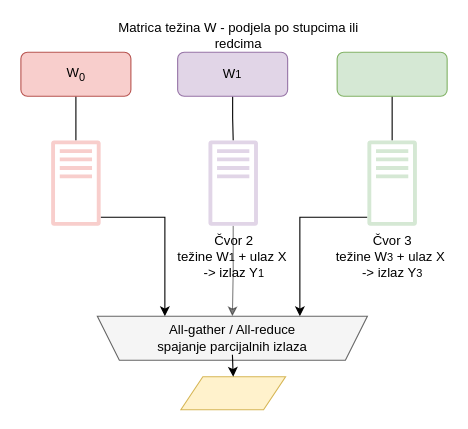
Some shapes in this 468 by 429 pixel diagram are drawn without their labels. Here are the shapes that lost their labels. From the top down, the box of each, then its label:
(336, 51, 447, 96): W 2
(50, 139, 101, 226): Čvor 1 težine W 0 + ulaz X -> izlaz Y 0
(180, 376, 286, 410): Izlaz Y
